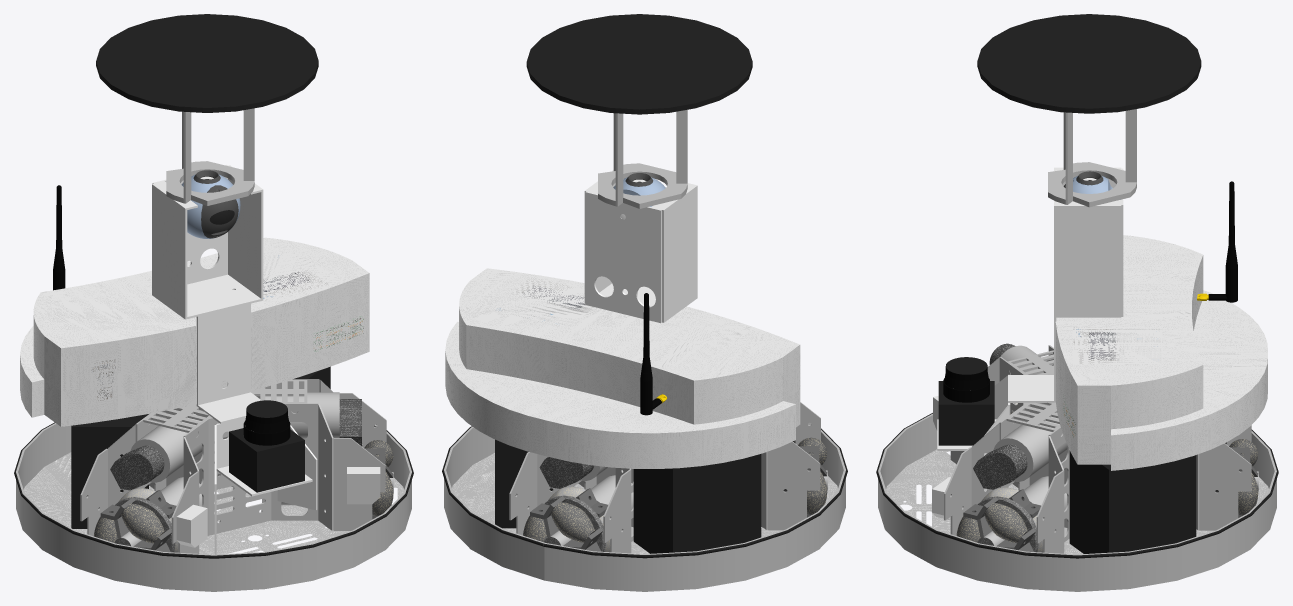
The model's file is robotino.dae.
3 views of the same model, side by side, from view 1: azimuth 30°, elevation 25°; view 2: azimuth 150°, elevation 25°; view 3: azimuth 270°, elevation 25° (orthographic).
Visible parts, largest first — view 1: Unit_2320 (×2), Robotino_neu_2329_FINAL (×4), Spiegelhalterung_Spiegel (×2), group_0, Gruppe_1 (×3), radar (×4), Motor1 (×4), Batterie, festokästchen (×2), SketchUp, Webcam_2 (×2), Deckel (+3 smaller); view 2: Unit_2320, Spiegelhalterung_Spiegel (×2), Robotino_neu_2329_FINAL (×4), group_0, Batterie (×2), Gruppe_1 (×3), SketchUp, rad1, Motor1, Antrieb_Rolle_2, Zwischenblock_rad, Componente_4 (+1 smaller); view 3: Unit_2320, Robotino_neu_2329_FINAL (×4), Spiegelhalterung_Spiegel (×2), Batterie, group_0, Gruppe_1 (×2), radar (×4), SketchUp, Motor1 (×2), Deckel, rad1, Antrieb_Rolle_2 (+4 smaller).
Part boxes in pixels (<box>): Unit_2320 (×2): <box>20,237,369,426</box>; Robotino_neu_2329_FINAL (×4): <box>14,422,413,591</box>; Spiegelhalterung_Spiegel (×2): <box>96,14,318,205</box>; group_0: <box>152,165,317,554</box>; Gruppe_1 (×3): <box>80,379,386,553</box>; radar (×4): <box>229,400,304,492</box>; Motor1 (×4): <box>110,392,361,490</box>; Batterie: <box>71,414,148,528</box>; festokästchen (×2): <box>176,474,380,547</box>; SketchUp: <box>252,252,329,303</box>; Webcam_2 (×2): <box>181,174,240,238</box>; Deckel: <box>143,379,307,437</box>; Unit_2320: <box>445,268,800,468</box>; Spiegelhalterung_Spiegel (×2): <box>526,14,752,208</box>; Robotino_neu_2329_FINAL (×4): <box>442,426,847,591</box>; group_0: <box>584,170,697,323</box>; Batterie (×2): <box>495,439,761,553</box>; Gruppe_1 (×3): <box>509,402,820,553</box>; SketchUp: <box>487,277,594,328</box>; rad1: <box>551,502,594,542</box>; Motor1: <box>539,457,593,488</box>; Antrieb_Rolle_2: <box>544,495,605,551</box>; Zwischenblock_rad: <box>530,496,565,537</box>; Componente_4: <box>640,372,652,415</box>; Unit_2320: <box>1055,235,1267,470</box>; Robotino_neu_2329_FINAL (×4): <box>876,413,1278,591</box>; Spiegelhalterung_Spiegel (×2): <box>977,14,1201,207</box>; Batterie: <box>1069,450,1196,553</box>; group_0: <box>937,167,1123,490</box>; Gruppe_1 (×2): <box>944,357,1251,553</box>; radar (×4): <box>938,357,994,445</box>; SketchUp: <box>1073,327,1162,364</box>; Motor1 (×2): <box>973,413,1067,489</box>; Deckel: <box>1006,350,1062,436</box>; rad1: <box>984,503,1027,543</box>; Antrieb_Rolle_2: <box>977,496,1038,552</box>.
Size of the model in its own units: 14.14 by 14.14 by 17.68.
